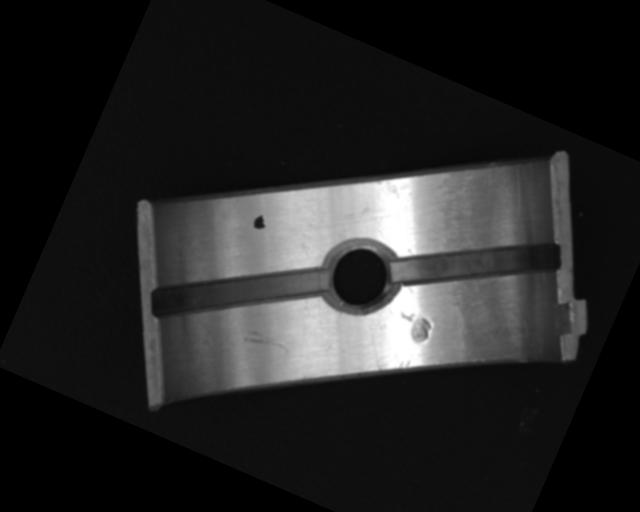blot: (251, 212, 269, 232)
bruise: (391, 306, 436, 347)
gap: (147, 211, 330, 372), (387, 188, 564, 336)
hole: (314, 228, 408, 326)
nick: (241, 325, 294, 361)
